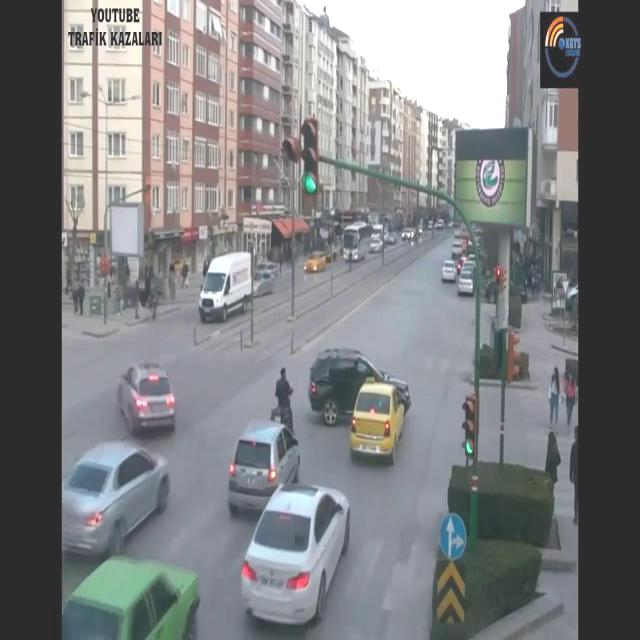accident: (307, 346, 413, 469)
non-accident: (62, 440, 202, 640), (226, 416, 352, 634), (62, 362, 178, 564), (197, 250, 277, 324), (440, 242, 480, 298), (343, 222, 389, 262)
